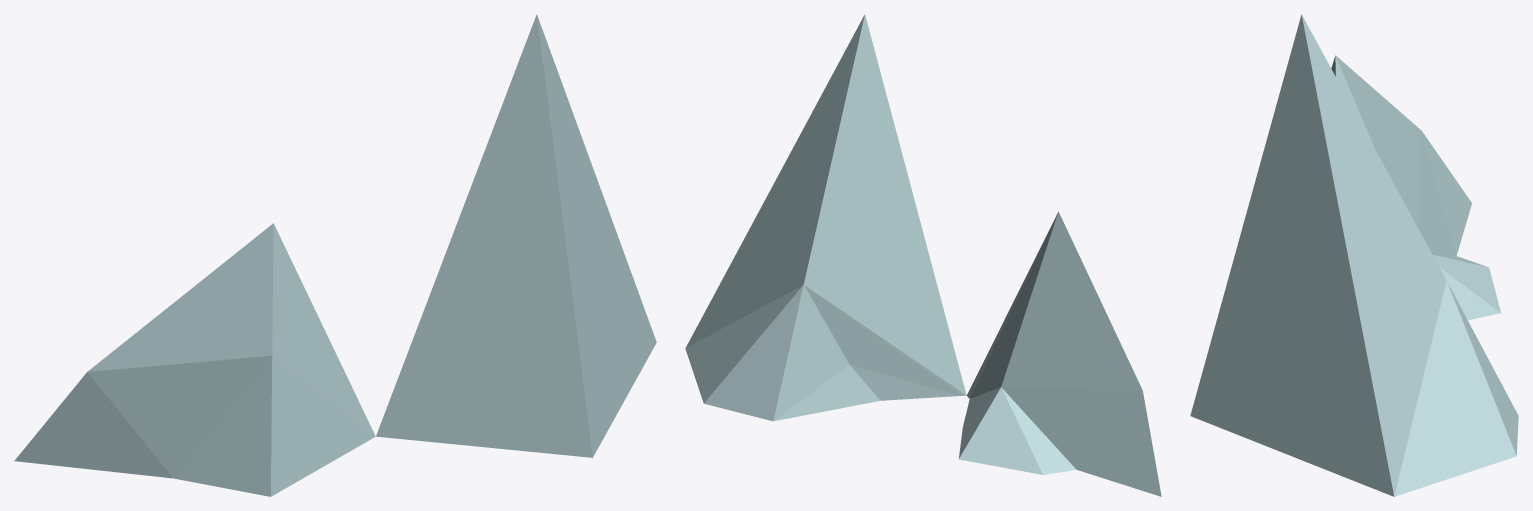
Rendered from spikes04.fbx.
3 renders of one model, left to right at view 1: azimuth 30°, elevation 25°; view 2: azimuth 150°, elevation 25°; view 3: azimuth 270°, elevation 25°, orthographic. The views are drawn at different scales.
Parts seen in each view (by area): view 1: polySurface5; view 2: polySurface5; view 3: polySurface5.
Part boxes in pixels (<box>): polySurface5: <box>14,14,656,496</box>; polySurface5: <box>685,14,1161,496</box>; polySurface5: <box>1190,14,1518,496</box>.
Size of the model in its own units: 0.2029 by 0.1295 by 0.0959.
